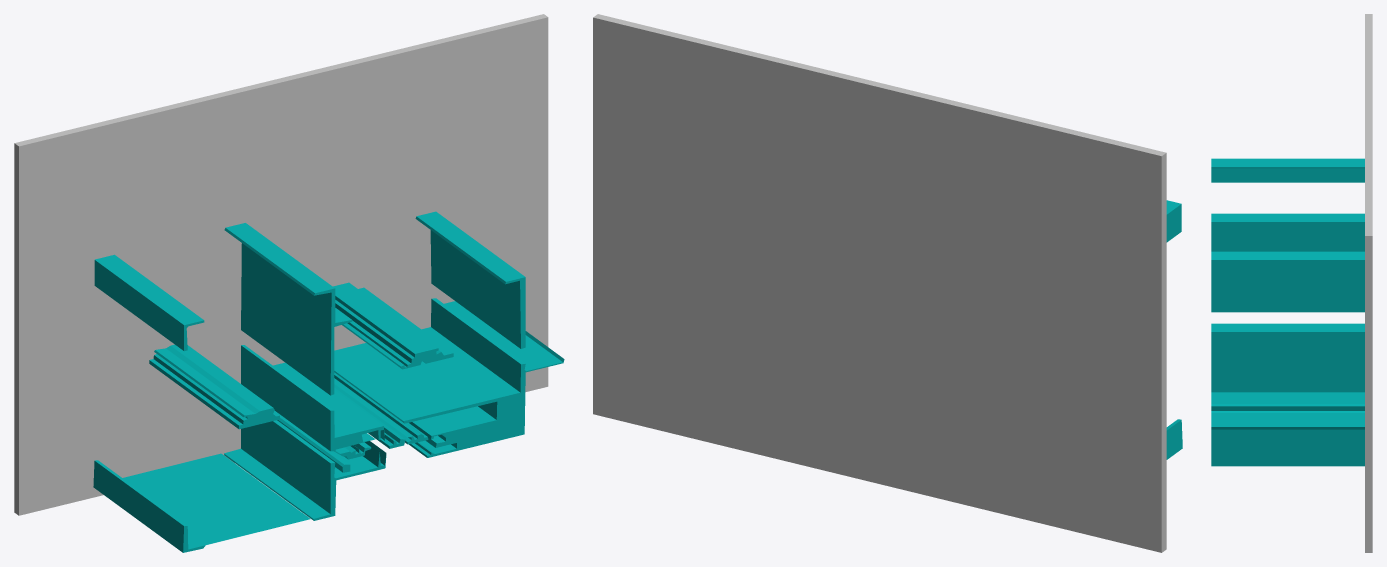
The picture shows the model from 3 angles, left to right: view 1: azimuth 30°, elevation 25°; view 2: azimuth 150°, elevation 25°; view 3: azimuth 270°, elevation 25°; orthographic projection. The views are drawn at different scales.
Parts seen in each view (by area): view 1: world; view 2: world; view 3: world.
Boxes of the visible parts, <box> form: world: <box>14,14,564,552</box>; world: <box>593,14,1182,552</box>; world: <box>1211,14,1372,552</box>.
Bounding box in the file's own units: 10.23 × 6.82 × 3.15.
